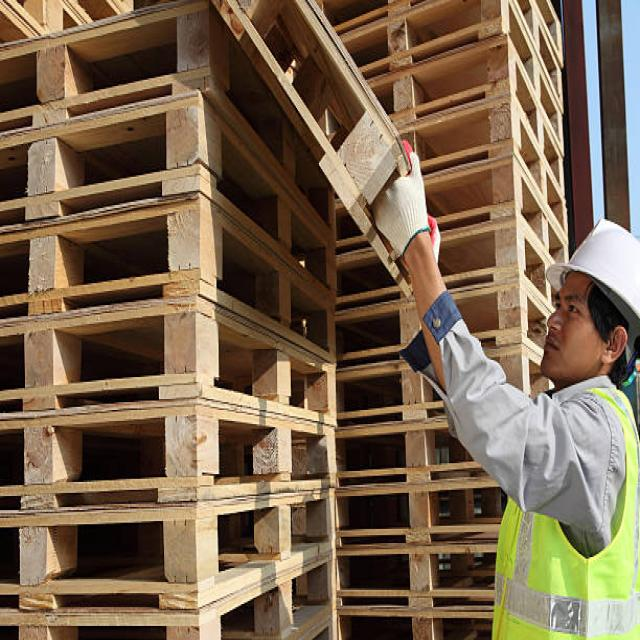Wooden-Pallets: (2, 304, 337, 438), (0, 491, 344, 605)
